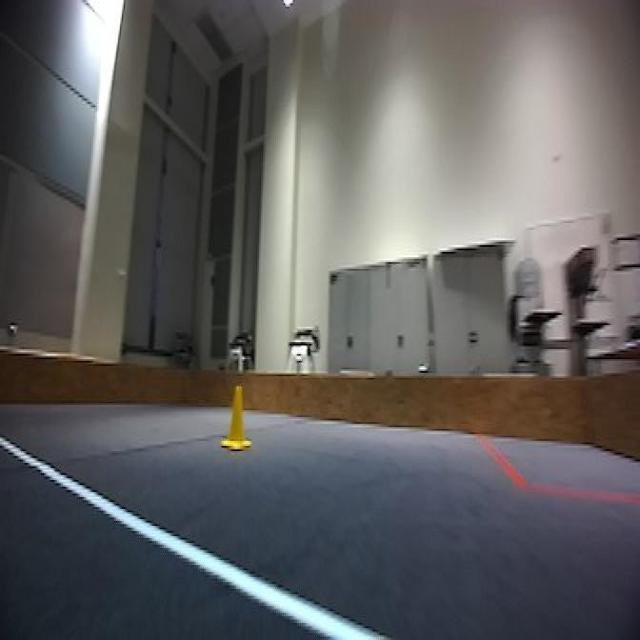frc_cone: (224, 388, 254, 456)
